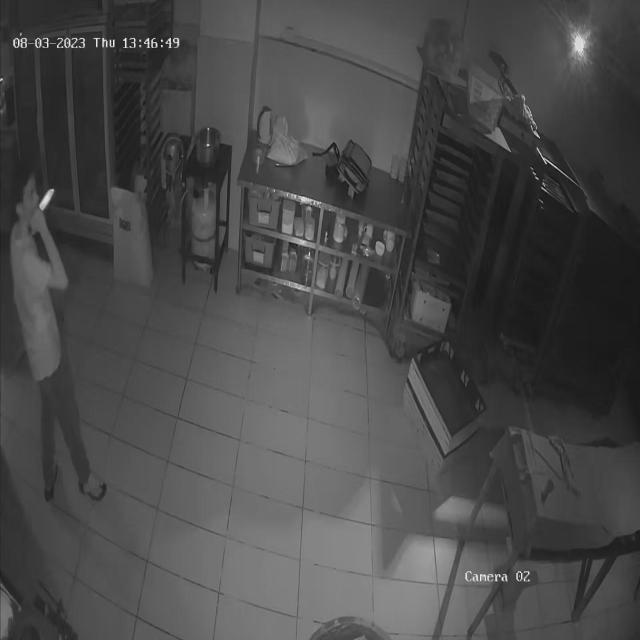Knife: (26, 182, 71, 226)
